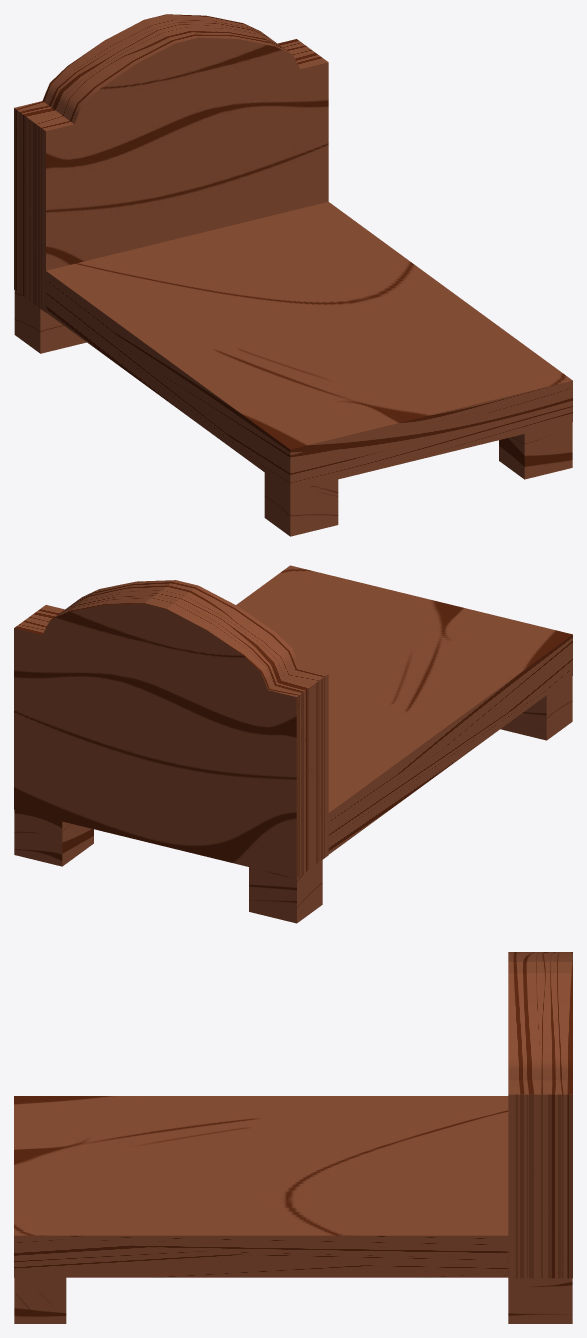
Rendered from Cama2Base.obj.
3 renders of one model, top to bottom at view 1: azimuth 30°, elevation 25°; view 2: azimuth 150°, elevation 25°; view 3: azimuth 270°, elevation 25°, orthographic.
Visible parts, largest first — view 1: Cama_pCube19, Cama_pCube17, Cama_pCube22, Cama_pCube21, Cama_pCube20; view 2: Cama_pCube17, Cama_pCube19, Cama_pCube20, Cama_pCube23, Cama_pCube22; view 3: Cama_pCube19, Cama_pCube17, Cama_pCube23, Cama_pCube21.
Boxes of the visible parts, x1,y1,x2,y2 form: Cama_pCube19: (45,202,572,490); Cama_pCube17: (14,14,328,312); Cama_pCube22: (264,473,338,536); Cama_pCube21: (499,422,572,479); Cama_pCube20: (14,290,86,353); Cama_pCube17: (14,580,328,878); Cama_pCube19: (236,565,572,854); Cama_pCube20: (249,860,322,923); Cama_pCube23: (14,810,93,866); Cama_pCube22: (500,676,572,740); Cama_pCube19: (14,1096,509,1277); Cama_pCube17: (508,952,572,1278); Cama_pCube23: (508,1278,572,1323); Cama_pCube21: (14,1277,66,1323).
Size of the model in its own units: 1.01 by 0.9691 by 1.71.
Materials: 2 (2 with a texture image).
